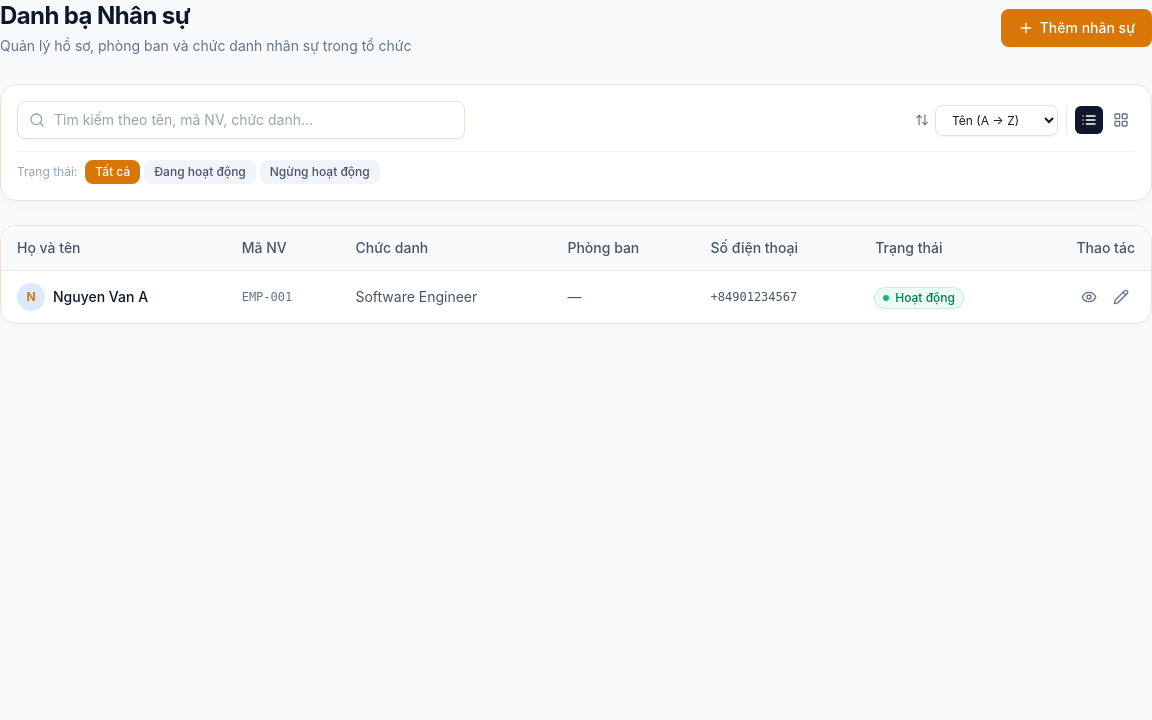
it: PeoplePage › opens employee detail profile modal with work summary and skills
The width and height of the screenshot is (1152, 720).
Expected: the text "Nguyen Van A" is shown, [53,287,148,307]
Click the button named "xem hồ sơ nguyen van a". click: [1089, 297]
box: [1075,283,1103,311]
(page scrolled)
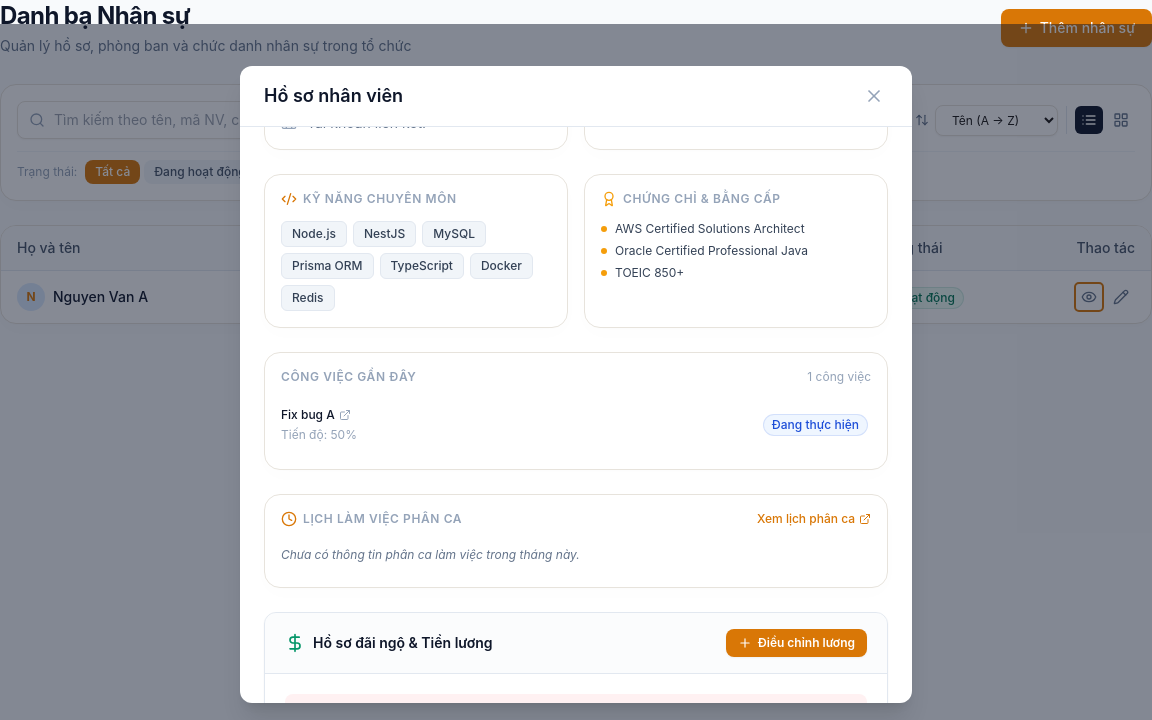
Expected: the heading "Hồ sơ nhân viên" is shown, [264,82,403,110]
Expected: the heading "Kỹ năng chuyên môn" is shown, [281,190,457,206]
Expected: the text "Fix bug A" is shown, [281,406,335,422]
